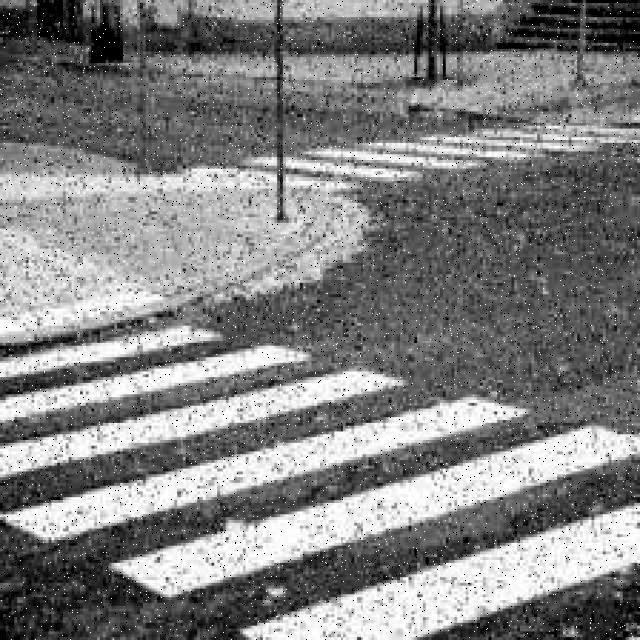crosswalk: (0, 297, 639, 639), (232, 114, 640, 195)
